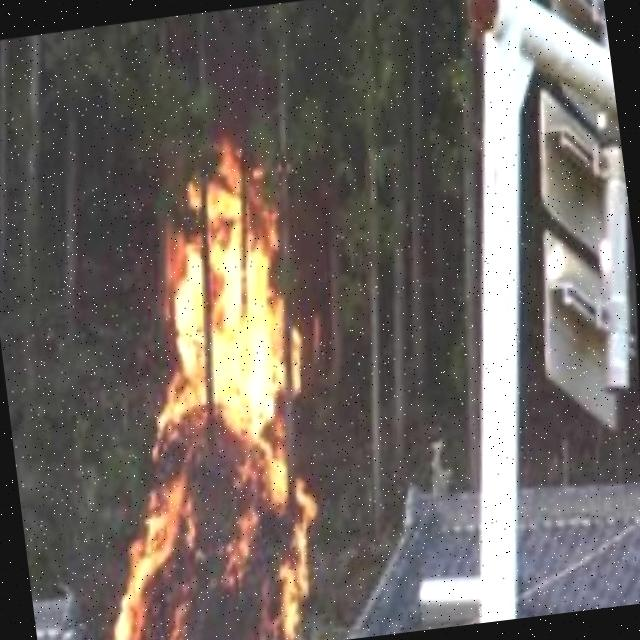fire: (43, 100, 366, 640)
